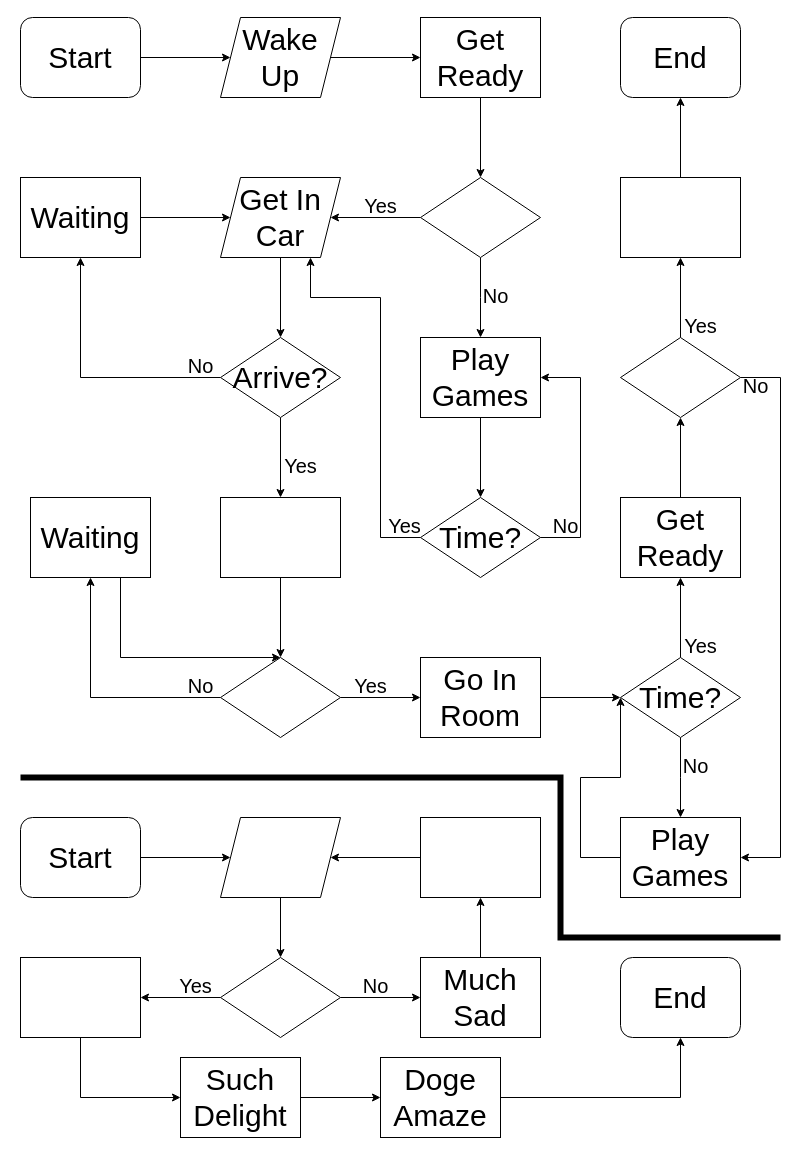
Image size: 806x1155. Some labels were removed from this diagram. The centre of each missing label's shape, as x and y in pixels:
Buy?: the point at 280,997
Doge: the point at 280,857
Late?: the point at 480,217
Learn: the point at 680,217
Open?: the point at 280,697
Plz Buy: the point at 480,857
Register At Desk: the point at 280,537
Teacher?: the point at 680,377
Wow: the point at 80,997
